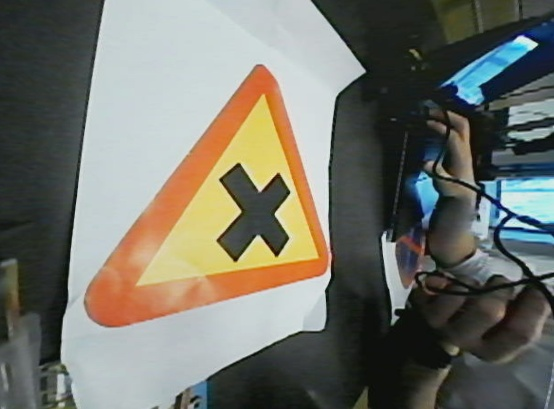junction: (84, 61, 359, 324)
